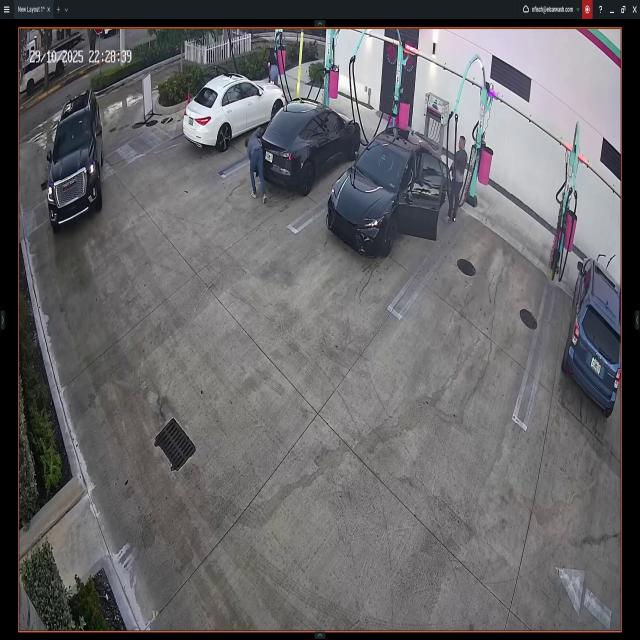Car: (326, 128, 450, 257), (562, 259, 620, 418), (254, 98, 360, 184), (45, 90, 103, 230), (183, 74, 282, 149)
